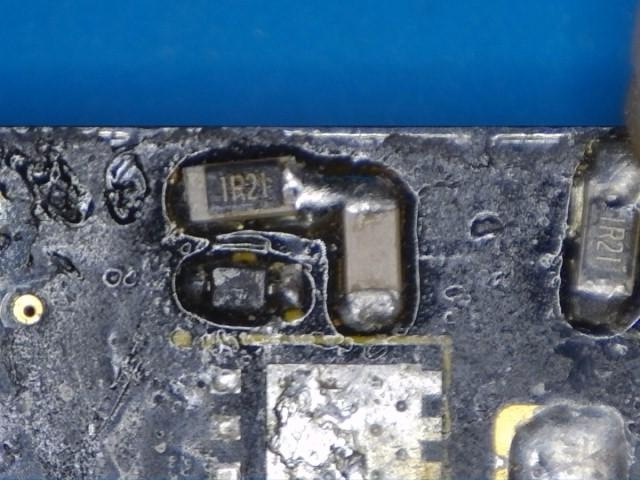pcb_defect: (177, 155, 318, 231), (285, 162, 401, 229)
